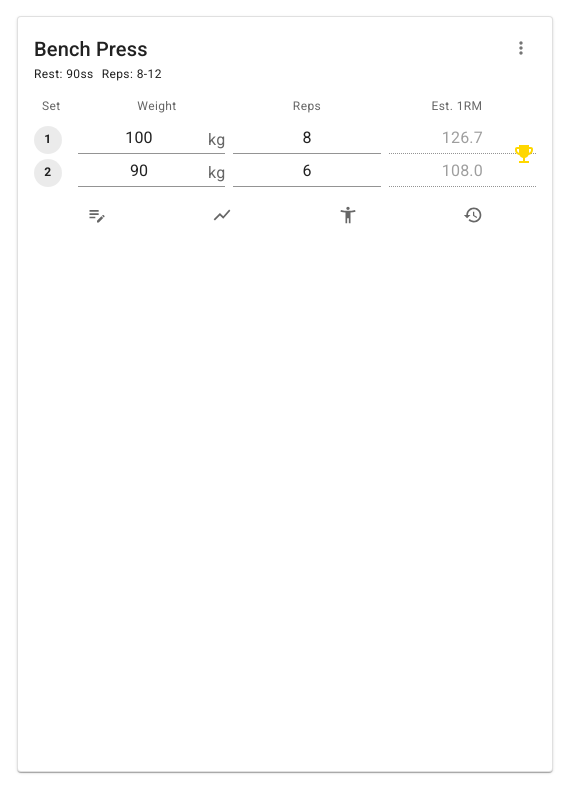
ExerciseDetailView › displays previous workout data when cache contains results
The image size is (571, 791).
Click the tab named "history" at (473, 215), box [410,199,536,231]
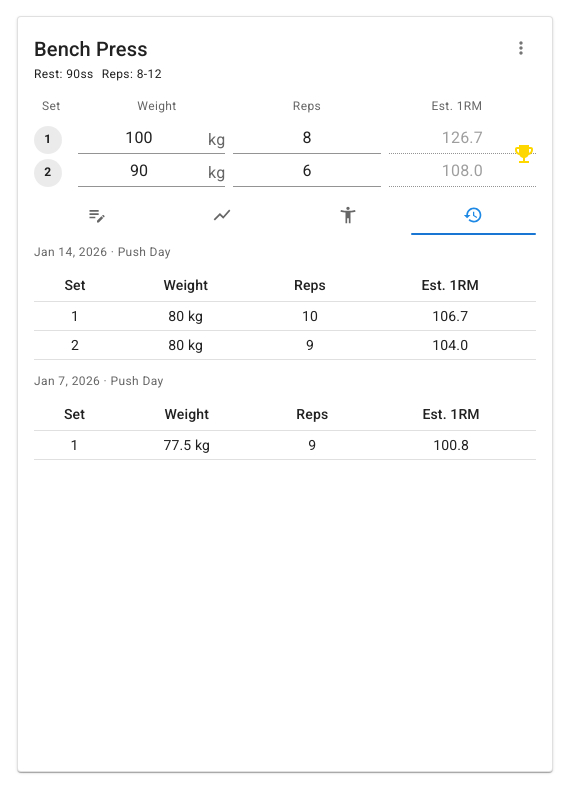
Now the table named "Previous workout table 1" is shown, box [34,269,536,360]
Now the text "Jan 14, 2026 · Push Day" is shown, box [34,245,171,259]
Now the text "Jan 7, 2026 · Push Day" is shown, box [34,374,164,388]
